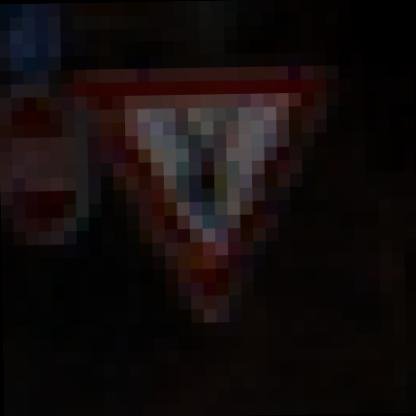crosswalk: (67, 35, 332, 331)
